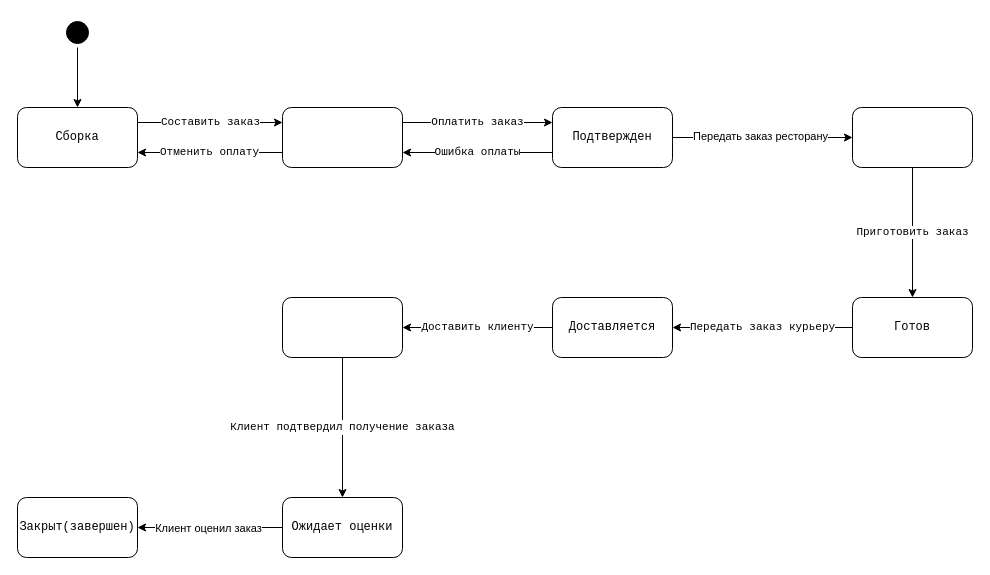
Some shapes in this 990 by 575 pixel diagram are drawn without their labels. The centre of each missing label's shape, as x and y in pixels:
"Готовится" goes at pixel 912 137.
"Доставлен" goes at pixel 342 327.
"Ожидает оплаты" goes at pixel 342 137.
